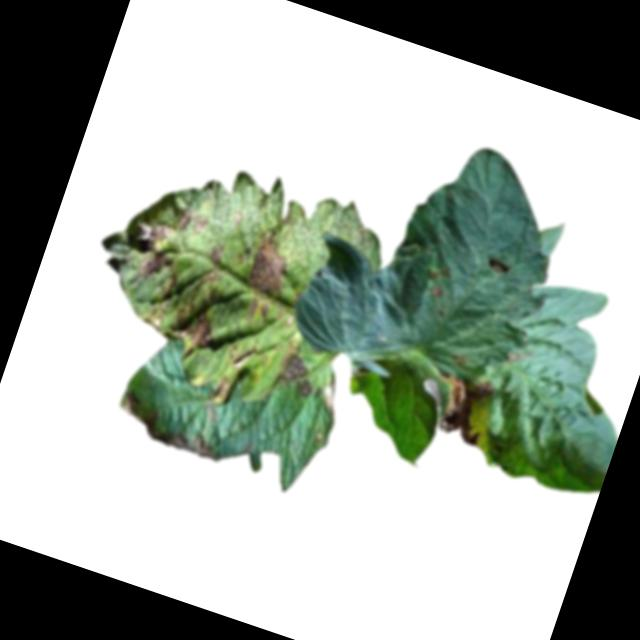Early_blight: (111, 389, 231, 464), (234, 227, 303, 333), (141, 286, 222, 353), (433, 369, 501, 448), (134, 192, 211, 259), (270, 334, 325, 395), (128, 242, 184, 298), (420, 259, 458, 302), (206, 239, 229, 268), (486, 255, 513, 276)
